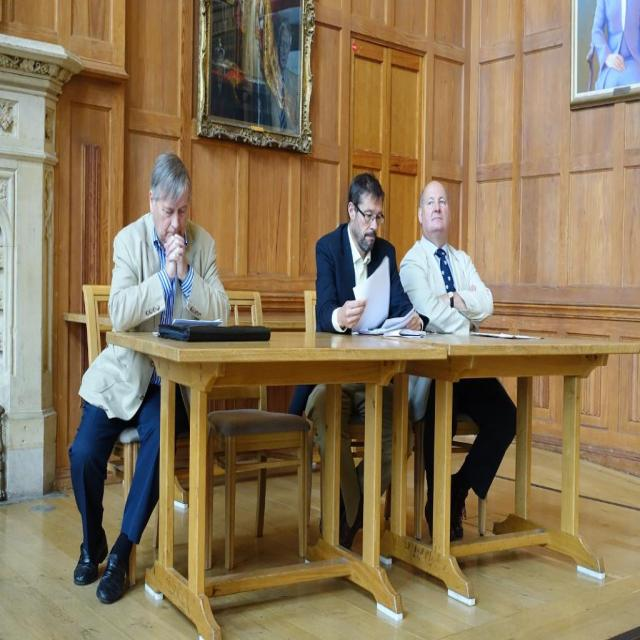chair: (208, 409, 312, 572)
desk: (106, 327, 447, 640)
person: (70, 152, 230, 602), (303, 172, 424, 562), (397, 176, 517, 556), (587, 1, 639, 91)
